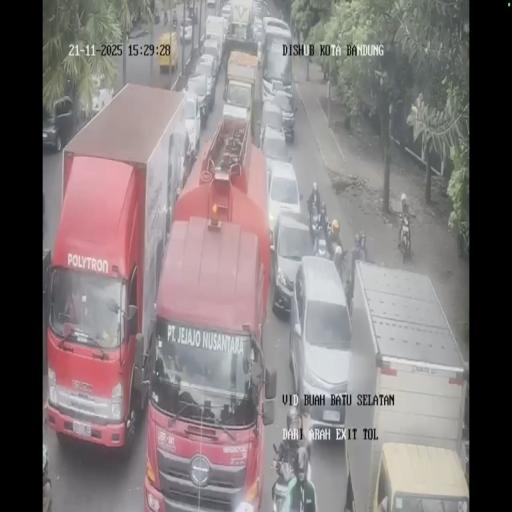car: (270, 208, 314, 318), (258, 100, 288, 158), (185, 73, 210, 129), (201, 39, 221, 77), (270, 78, 292, 108), (179, 18, 193, 42), (220, 1, 232, 28), (252, 18, 264, 45), (251, 0, 262, 18)
motorcycle: (397, 211, 411, 263), (330, 237, 346, 281), (308, 199, 322, 245), (172, 16, 177, 30)
truck: (46, 82, 194, 454), (334, 259, 468, 510), (261, 18, 292, 84), (227, 0, 253, 43), (85, 83, 114, 120), (157, 31, 179, 73)
